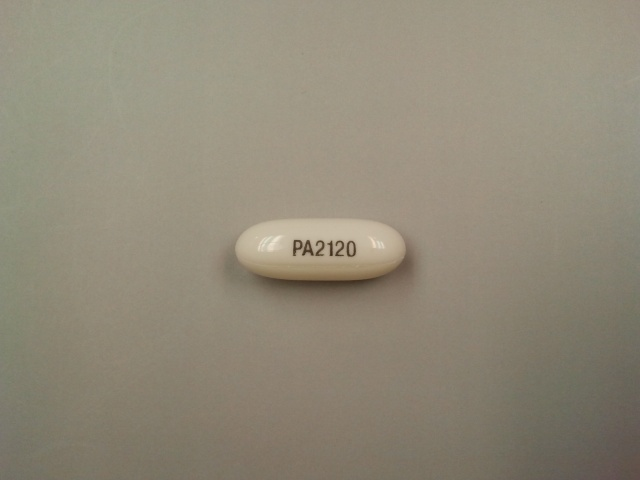0: (346, 237, 357, 259)
1: (328, 238, 335, 258)
2: (314, 238, 326, 259), (335, 240, 345, 259)
A: (302, 238, 314, 257)
P: (289, 238, 304, 257)
